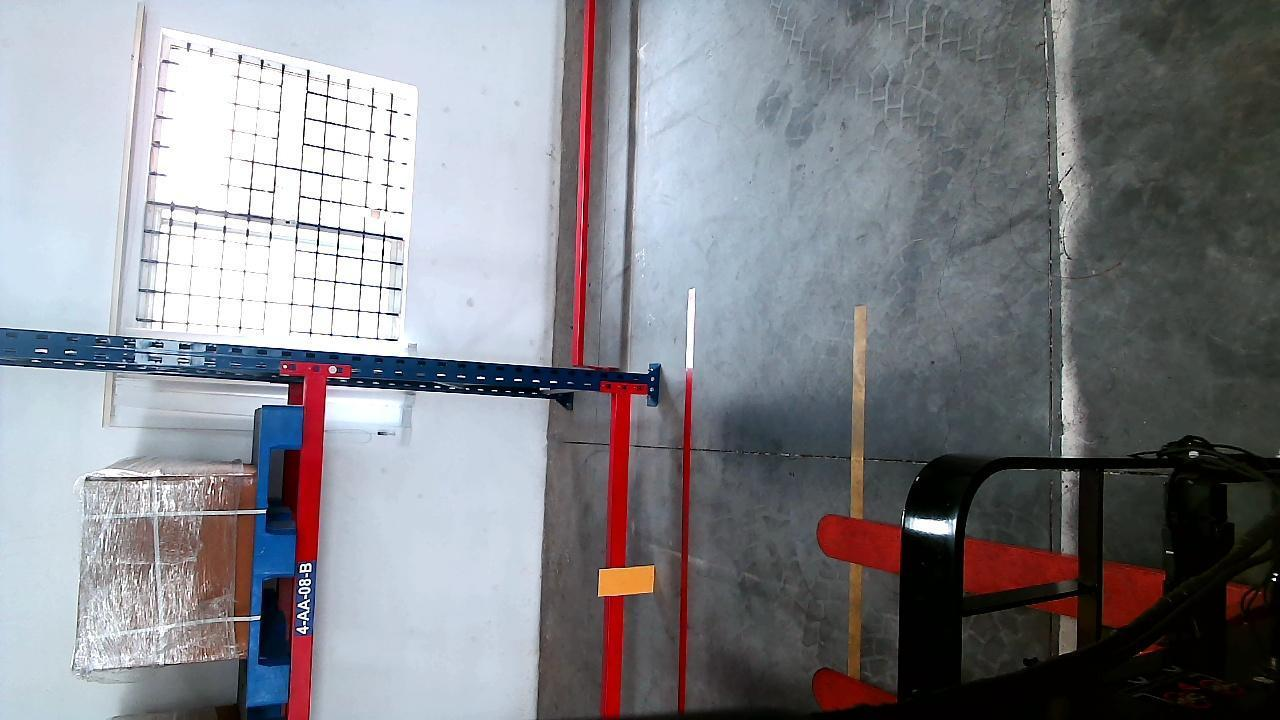h_rack: (291, 380, 330, 720), (606, 383, 634, 712)
orange_strip: (600, 564, 652, 597)
red_line: (672, 311, 698, 709)
small_pallet: (245, 419, 300, 720)
yellow_line: (841, 298, 869, 695), (848, 304, 866, 517)
